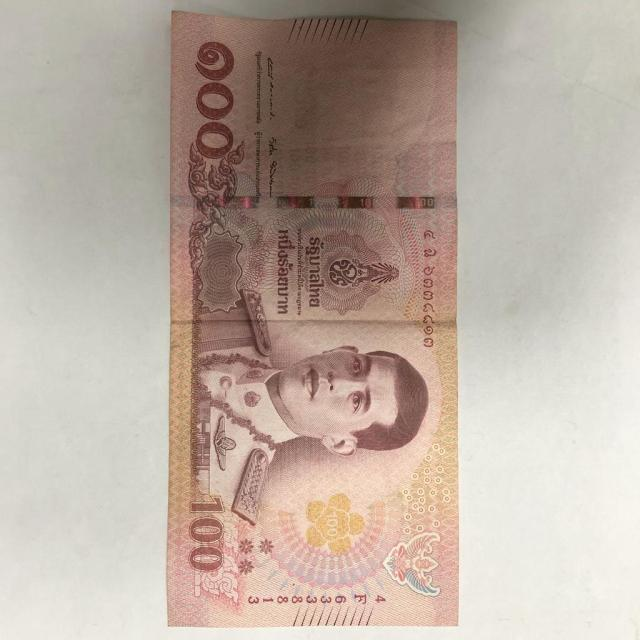THAI100: (165, 11, 462, 630)
